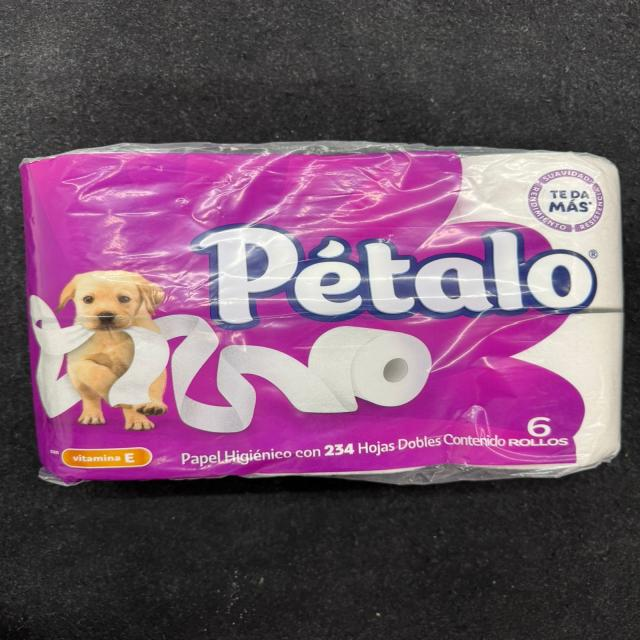Hig Petalo UltraJumbo 6s 234h: (25, 134, 623, 498)
